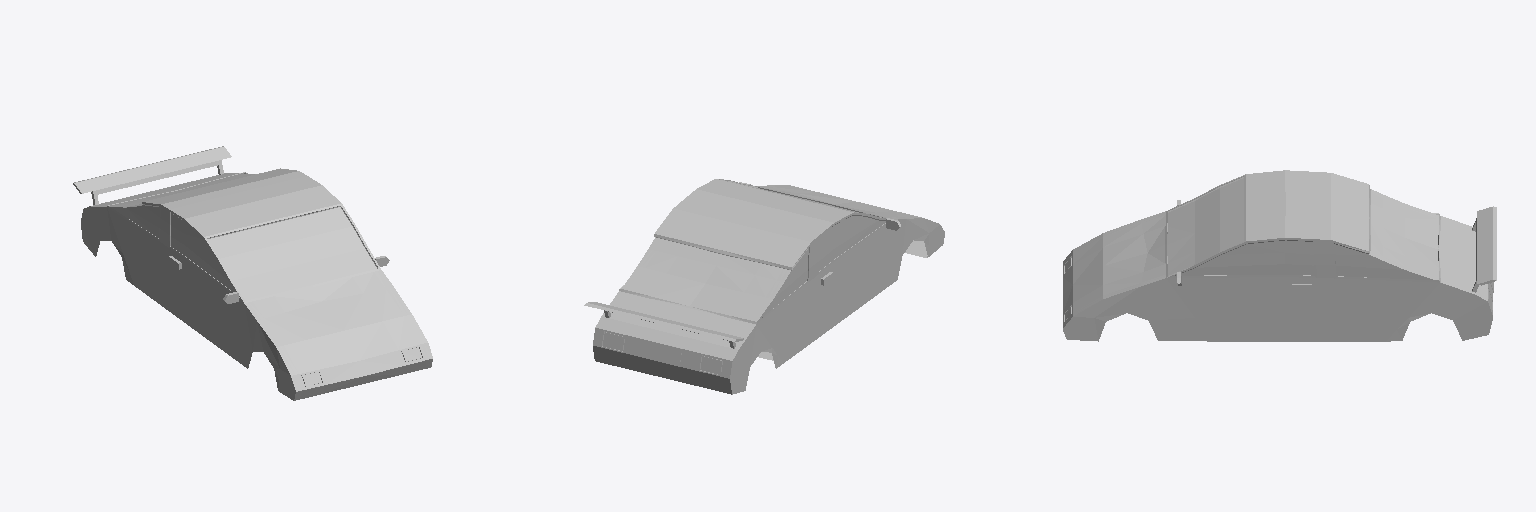
Rendered from lightCarBody.obj.
3 views of the same model, side by side, from view 1: azimuth 30°, elevation 25°; view 2: azimuth 150°, elevation 25°; view 3: azimuth 270°, elevation 25° (orthographic).
Visible parts, largest first — view 1: Cube; view 2: Cube; view 3: Cube.
Boxes of the visible parts, <box> form: Cube: <box>73,146,432,400</box>; Cube: <box>584,179,944,394</box>; Cube: <box>1063,170,1496,341</box>.
Size of the model in its own units: 3.21 by 1.93 by 7.32.